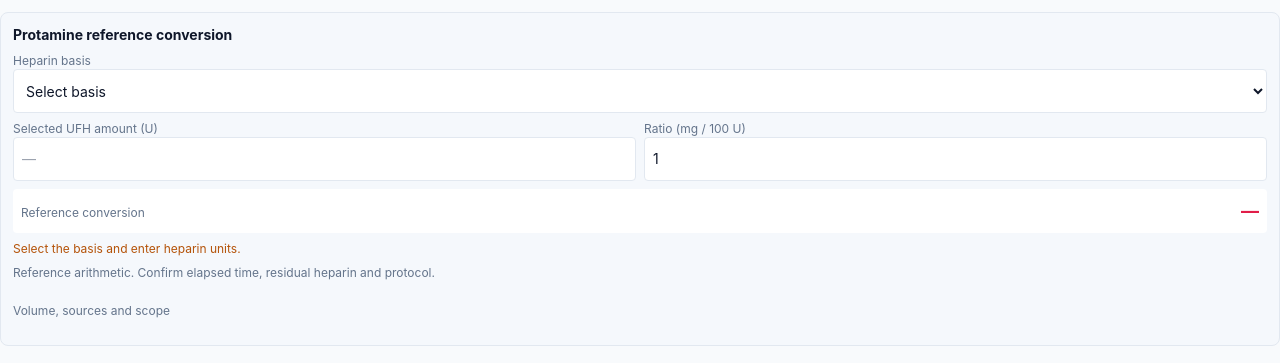
Test: Visible calculator and actual-input boundaries › clears actual input when the named basis changes
The width and height of the screenshot is (1280, 363).
Select "Actual patient + circuit total" in the dropdown named "Protamine heparin basis" at (640, 91), box [13,69,1267,113]
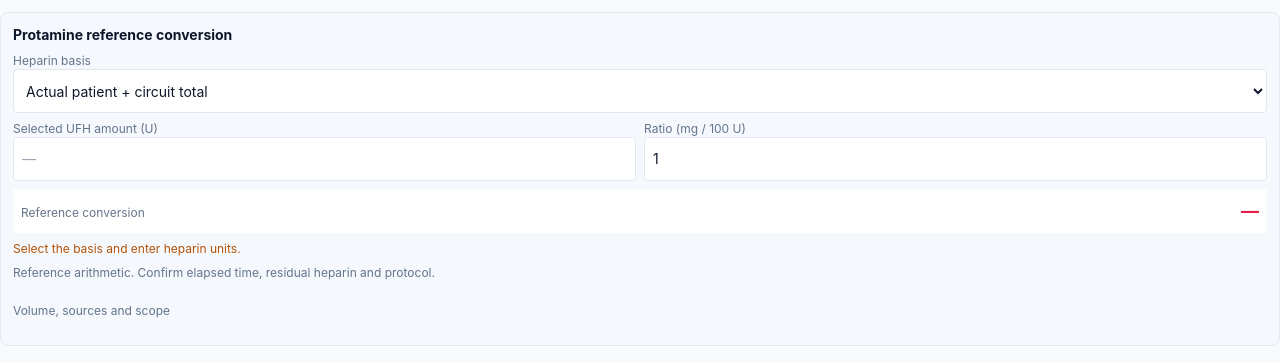
Type "4200" into the number field named "Protamine heparin units" at (324, 159), box [13,137,636,181]
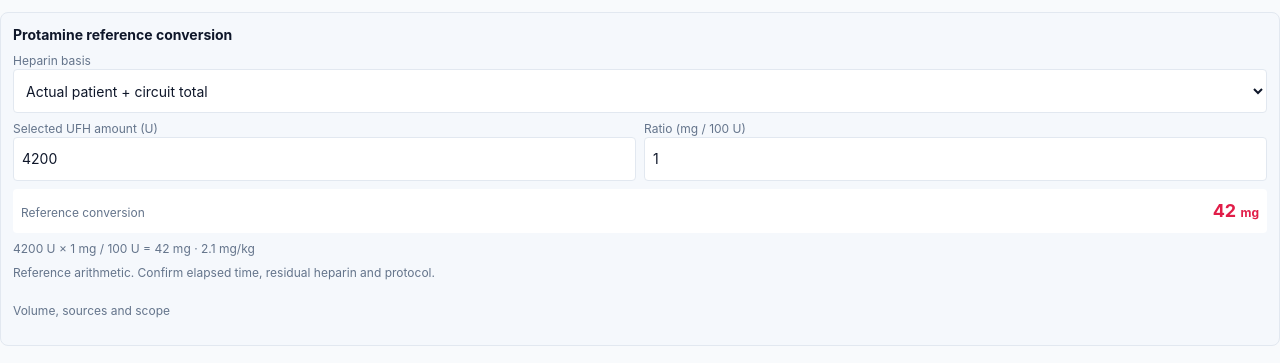
Now the element showing "42 mg" is shown, box [1213,197,1259,225]
Select "Actual patient initial dose" in the dropdown named "Protamine heparin basis" at (640, 91), box [13,69,1267,113]
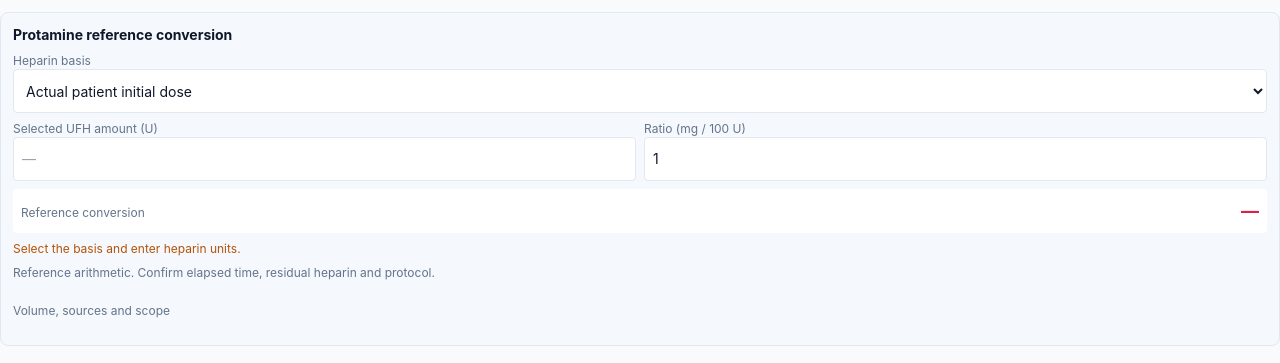
Now the number field named "Protamine heparin units" is not empty, box [13,137,636,181]
Now the text "—" is shown, box [1241,197,1259,225]
